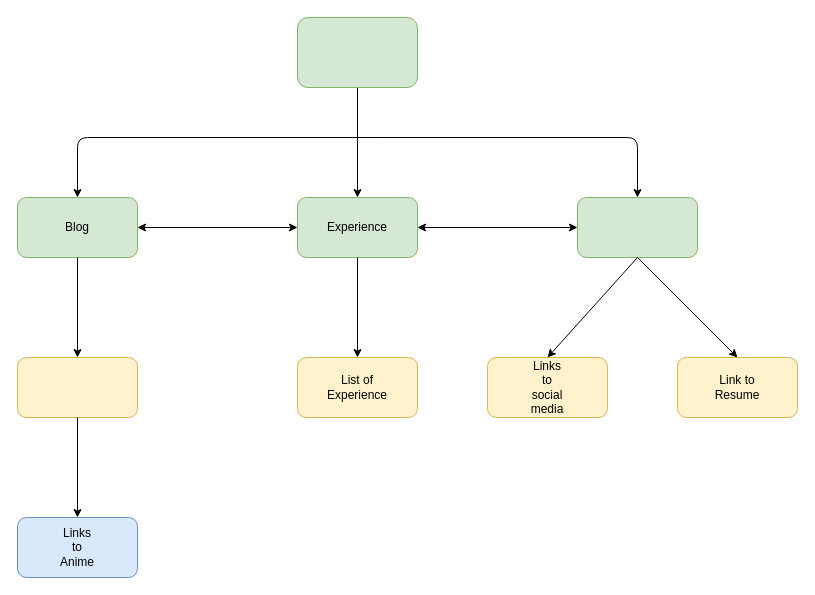
The diagram is 815 pixels wide and 595 high, and some of its shapes have lost their labels. Each missing label, with the box of its shape:
Contact: (576, 196, 698, 258)
HOME/ABOUT: (296, 16, 418, 88)
List of anime: (16, 356, 138, 418)
